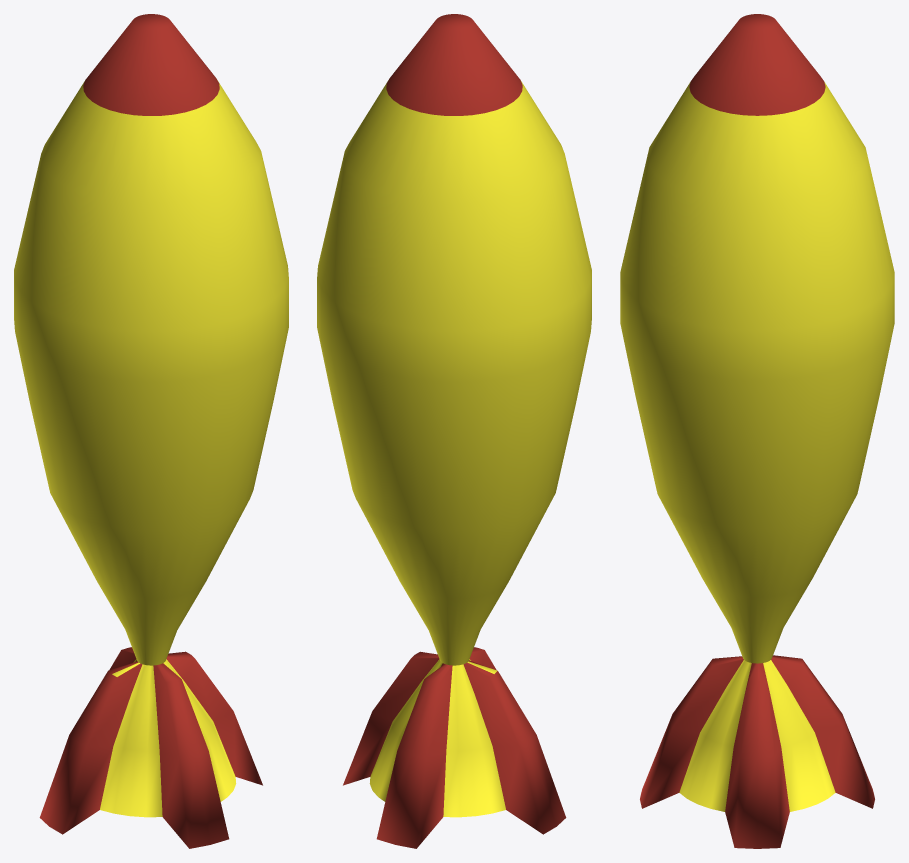
The model's file is rocket.fbx.
3 renders of one model, left to right at view 1: azimuth 30°, elevation 25°; view 2: azimuth 150°, elevation 25°; view 3: azimuth 270°, elevation 25°, orthographic.
Visible parts, largest first — view 1: Circle; view 2: Circle; view 3: Circle.
Boxes of the visible parts, bbox=[...] form: Circle: bbox=[14, 14, 288, 848]; Circle: bbox=[317, 14, 591, 848]; Circle: bbox=[620, 14, 894, 848].
Bounding box in the file's own units: 3.24 × 10.13 × 3.24.
